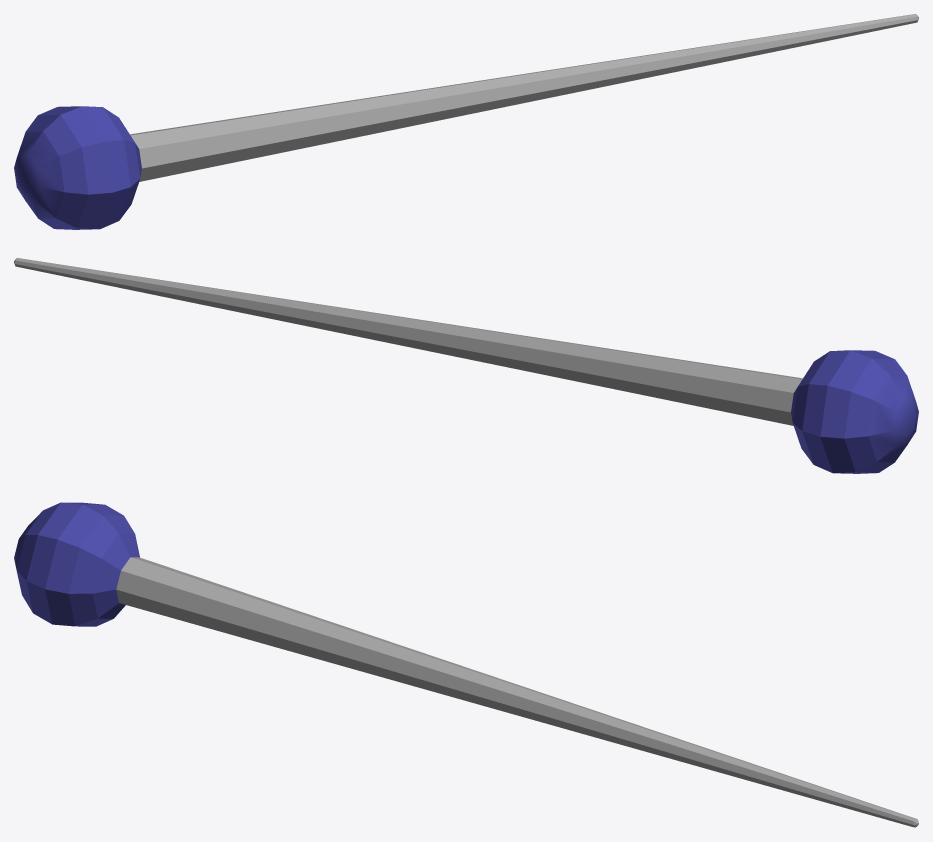
The model's file is pin.fbx.
3 views of the same model, one above another, from view 1: azimuth 30°, elevation 25°; view 2: azimuth 150°, elevation 25°; view 3: azimuth 330°, elevation 25° (orthographic).
Visible parts, largest first — view 1: geo_pin; view 2: geo_pin; view 3: geo_pin.
Part boxes in pixels (bbox=[...]): geo_pin: bbox=[14, 14, 918, 229]; geo_pin: bbox=[14, 258, 918, 473]; geo_pin: bbox=[14, 502, 918, 827].
Size of the model in its own units: 73.39 by 9.56 by 9.58.
